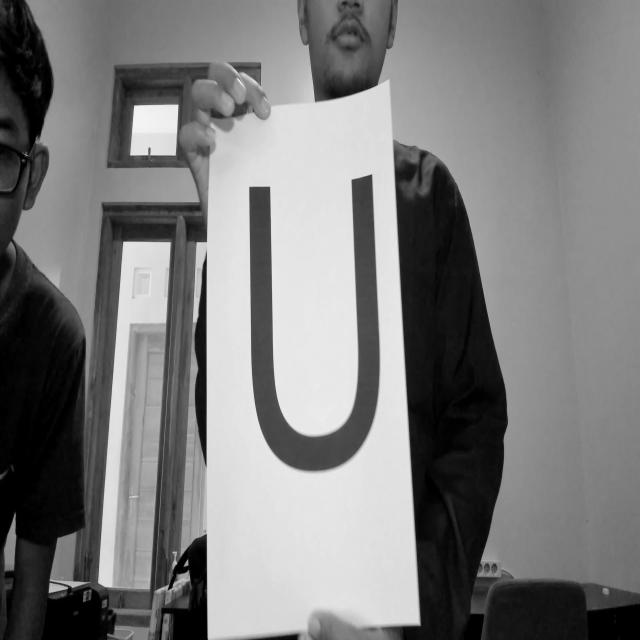u: (240, 160, 394, 487)
